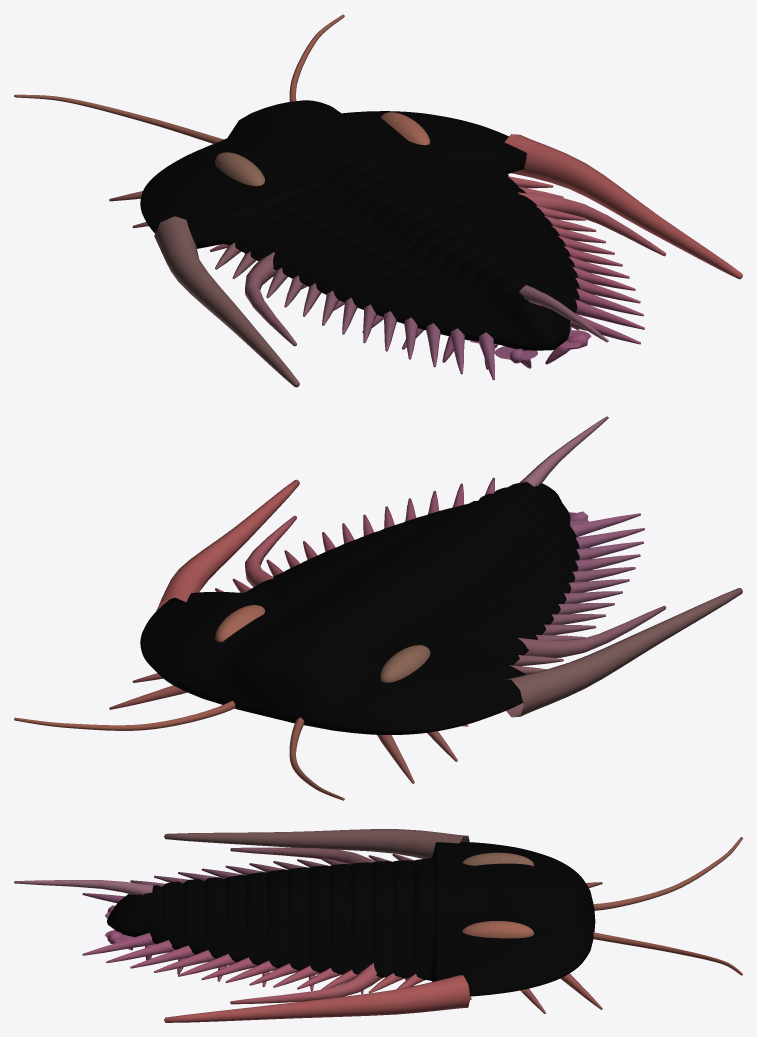
File: trilobite_cheeks.glb
The picture shows the model from 3 angles, top to bottom: view 1: azimuth 30°, elevation 25°; view 2: azimuth 150°, elevation 25°; view 3: azimuth 270°, elevation 25°; orthographic projection. The views are drawn at different scales.
Visible parts, largest first — view 1: trilobite_cheeks; view 2: trilobite_cheeks; view 3: trilobite_cheeks.
Part boxes in pixels (x1,y1,x2,y2): trilobite_cheeks: (14,14,742,387); trilobite_cheeks: (14,416,742,800); trilobite_cheeks: (14,829,742,1022).
Size of the model in its own units: 0.2704 by 0.048 by 0.4477.
